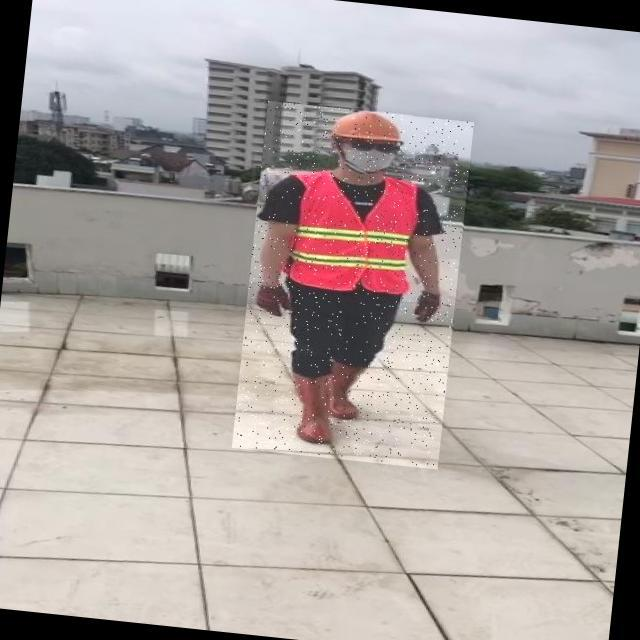Gloves: (254, 286, 295, 320), (414, 294, 441, 328)
Helmet: (327, 107, 412, 151)
Human: (232, 101, 475, 471)
Safety Boot: (290, 375, 343, 448), (334, 367, 376, 425)
Safety Vest: (290, 172, 422, 299)
